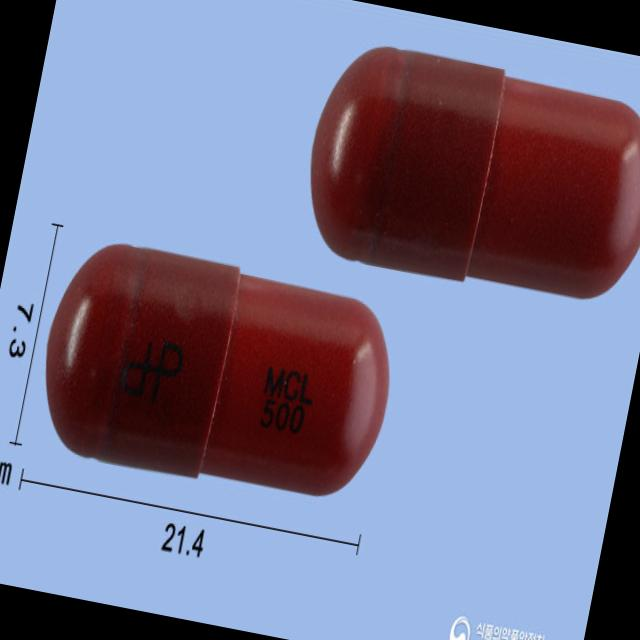Cephamethyl Cap: (24, 222, 413, 516)
